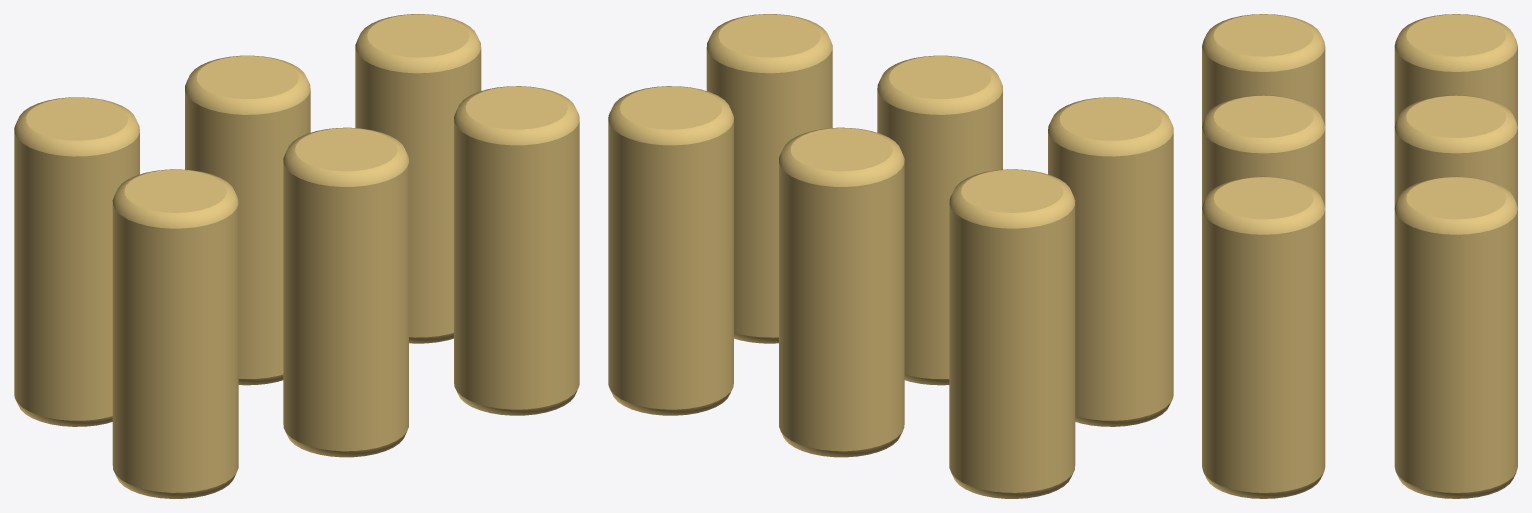
The model's file is SM_CMP_RIFLE_CASING_SET.fbx.
The picture shows the model from 3 angles, left to right: view 1: azimuth 30°, elevation 25°; view 2: azimuth 150°, elevation 25°; view 3: azimuth 270°, elevation 25°; orthographic projection. The views are drawn at different scales.
Visible parts, largest first — view 1: SM_CMP_RIFLE_CASING_SET; view 2: SM_CMP_RIFLE_CASING_SET; view 3: SM_CMP_RIFLE_CASING_SET.
Boxes of the visible parts, x1,y1,x2,y2 form: SM_CMP_RIFLE_CASING_SET: (14,14,579,498); SM_CMP_RIFLE_CASING_SET: (608,14,1173,498); SM_CMP_RIFLE_CASING_SET: (1202,14,1517,498).
Size of what is drawn, in the model's own units: 0.066 by 0.04 by 0.041.
